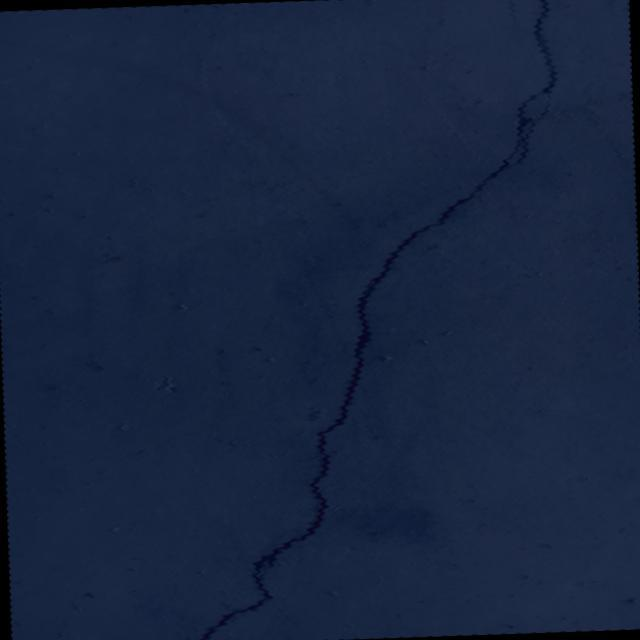crack: (170, 0, 576, 640), (509, 0, 530, 33)
